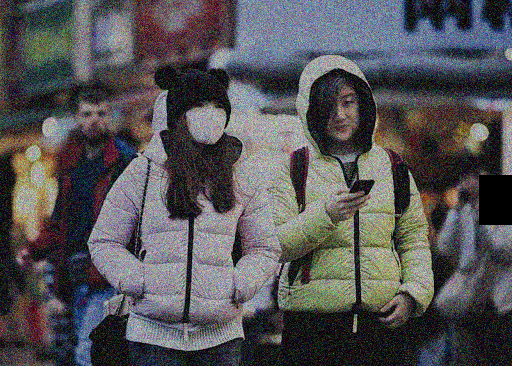with_mask: (185, 100, 226, 144)
without_mask: (325, 90, 360, 141), (79, 105, 109, 142)
